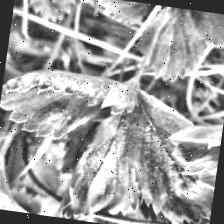Powdery Mildew Leaf: (0, 62, 141, 150), (60, 107, 152, 224)
